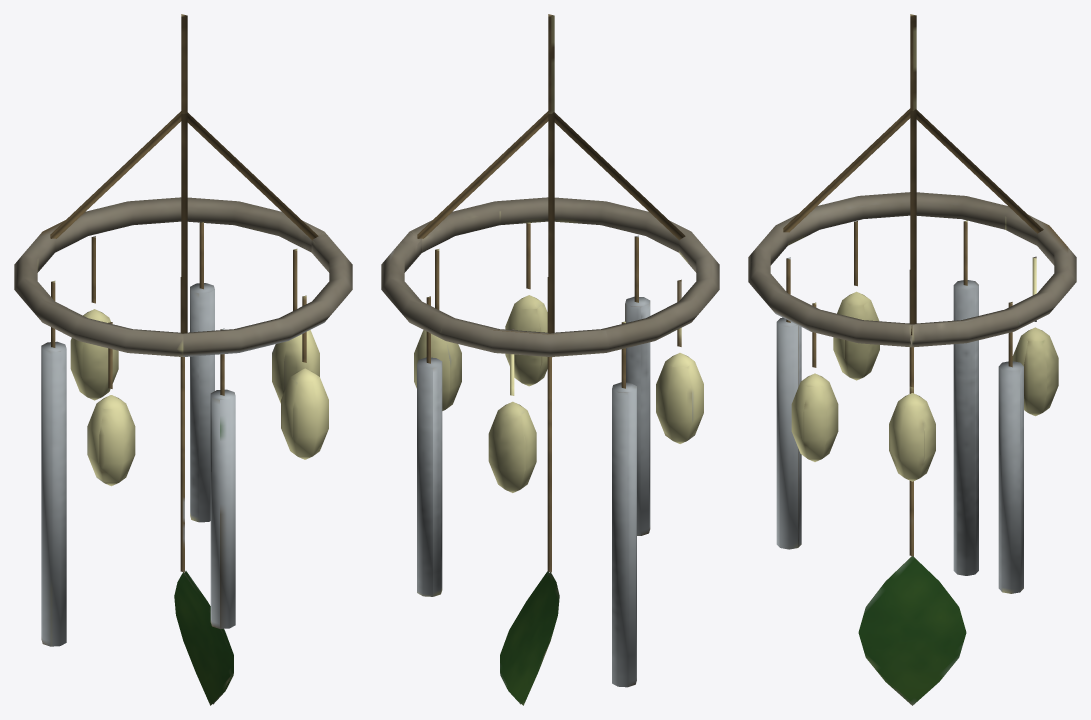
The model's file is wind_chimes.obj.
3 views of the same model, side by side, from view 1: azimuth 30°, elevation 25°; view 2: azimuth 150°, elevation 25°; view 3: azimuth 270°, elevation 25° (orthographic). The views are drawn at different scales.
Parts seen in each view (by area): view 1: part1, part0, fire, part3, part4; view 2: part0, part1, fire, part3, part4; view 3: part1, part0, fire, part4, part3.
Boxes of the visible parts, x1,y1,x2,y2 form: part1: (41,283,235,646); part0: (14,197,352,356); fire: (70,309,328,486); part3: (50,14,318,572); part4: (174,571,233,705); part0: (381,197,719,356); part1: (417,296,650,687); fire: (414,295,703,492); part3: (417,14,685,572); part4: (500,571,559,705); part1: (776,280,1023,593); part0: (748,192,1076,347); fire: (791,291,1058,481); part4: (858,556,966,705); part3: (783,14,1043,556).
Size of the model in its own units: 0.476 by 1.07 by 0.4688.
